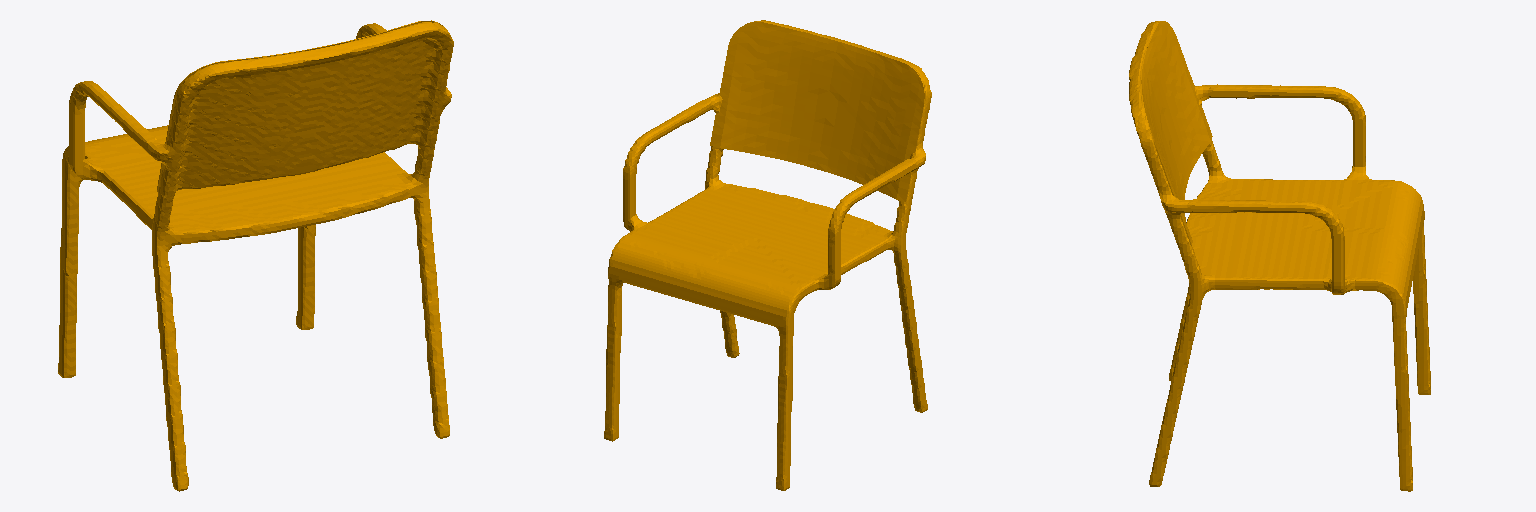
URDF robot description (03001627_9231ef07326eae09b04cb542e2c50eb4_object4):
<robot name="03001627_9231ef07326eae09b04cb542e2c50eb4_object4">
	<link name="_name">
		<visual>
			<origin xyz="1.1746763357333891 2.324117317092362 0.8188416644079841" rpy="0.0 0.0 0.0" />
			<geometry>
				<mesh filename="03001627_9231ef07326eae09b04cb542e2c50eb4_object4.obj" />
			</geometry>
		</visual>
		<collision>
			<origin rpy="0.0 0.0 0.0" xyz="1.1746763357333891 2.324117317092362 0.8188416644079841" />
			<geometry>
				<mesh filename="03001627_9231ef07326eae09b04cb542e2c50eb4_object4_vhacd.obj" />
			</geometry>
		</collision>
		<inertial>
			<origin rpy="0 0 0" xyz="0 0 0" />
			<mass value="1.0" />
			<inertia ixx="0.001" ixy="0.0" ixz="0.0" iyy="0.001" iyz="0.0" izz="0.001" />
		</inertial>
	</link>
</robot>

--- Facts derived from the render (not from the file) ---
The picture shows the robot from 3 angles, left to right: view 1: azimuth 30°, elevation 25°; view 2: azimuth 150°, elevation 25°; view 3: azimuth 270°, elevation 25°; orthographic projection.
Robot: 03001627_9231ef07326eae09b04cb542e2c50eb4_object4 — 1 links, 0 joints (none); root link _name; default pose: all joints at 0.
Links seen in each view (by area): view 1: _name; view 2: _name; view 3: _name.
Link boxes in pixels (x1,y1,x2,y2): _name: (58,20,453,491); _name: (604,20,931,490); _name: (1129,21,1430,491).
Size in the robot's own frame: 0.5483 by 0.5582 by 0.7515 metres.
Meshes: 1 distinct files referenced, 1 mesh visuals loaded (1 OBJ).
